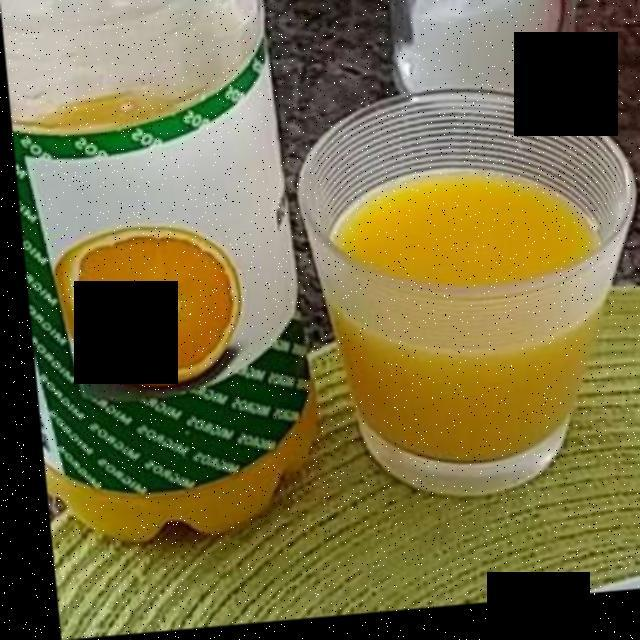juice: (321, 178, 602, 463)
